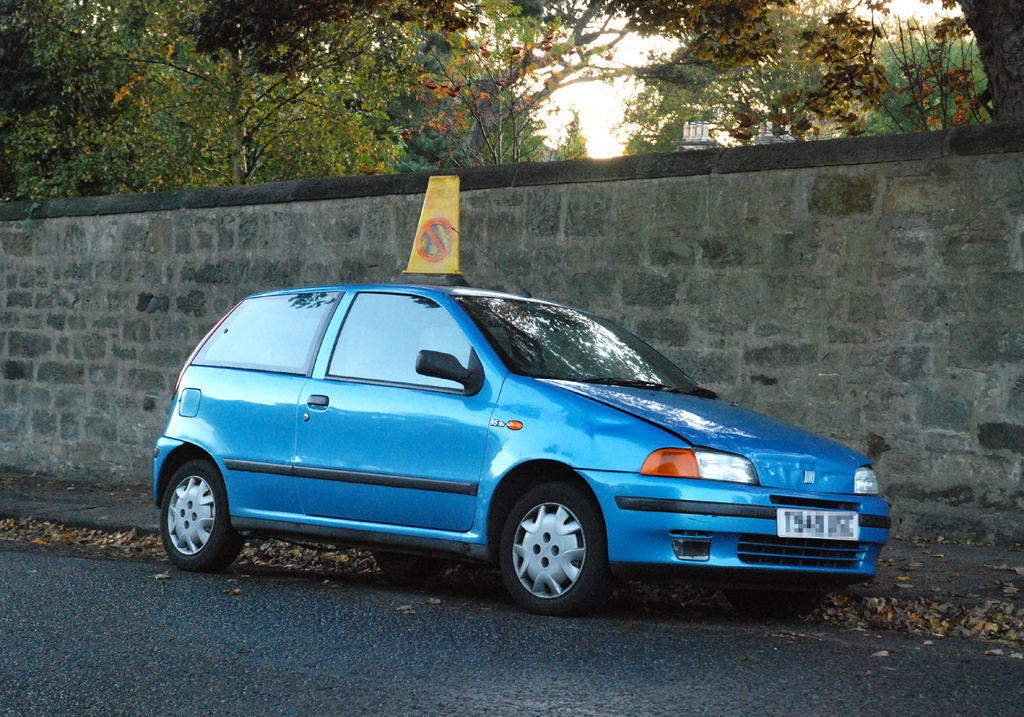Car: (133, 274, 919, 618)
